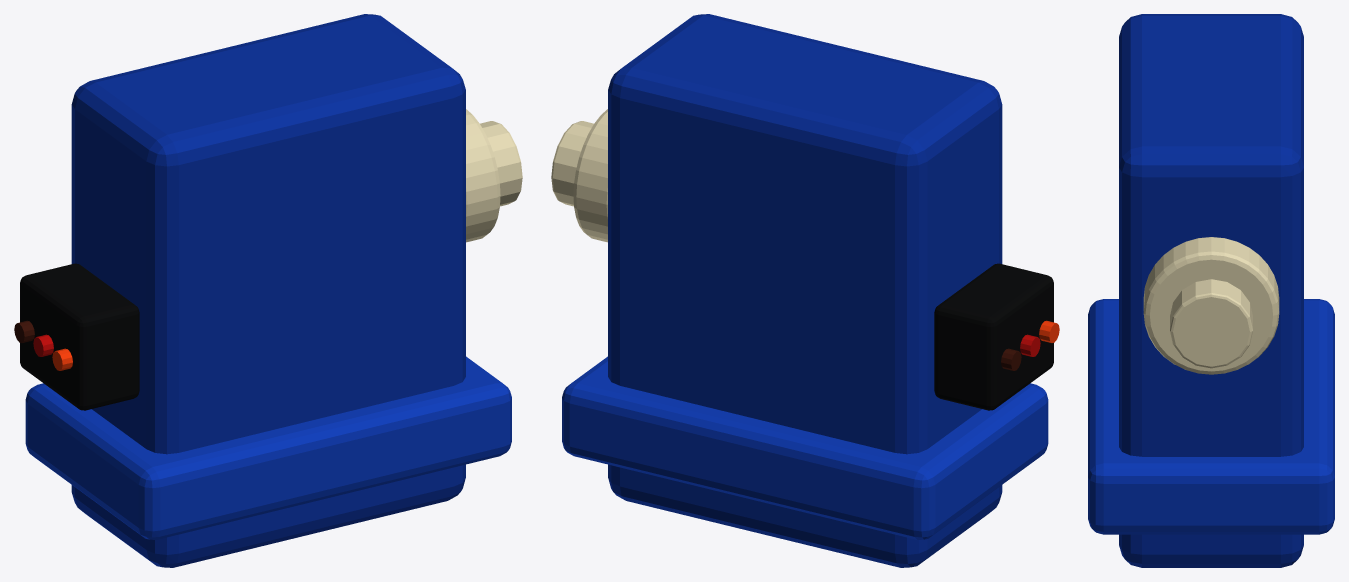
Rendered from servo.obj.
3 views of the same model, side by side, from view 1: azimuth 30°, elevation 25°; view 2: azimuth 150°, elevation 25°; view 3: azimuth 270°, elevation 25° (orthographic). The views are drawn at different scales.
Visible parts, largest first — view 1: servo; view 2: servo; view 3: servo.
Part boxes in pixels (x1=…): servo: x1=14, y1=14, x2=522, y2=567; servo: x1=551, y1=14, x2=1059, y2=567; servo: x1=1088, y1=14, x2=1334, y2=567.
Bounding box in the file's own units: 0.0338 × 0.03 × 0.016.
